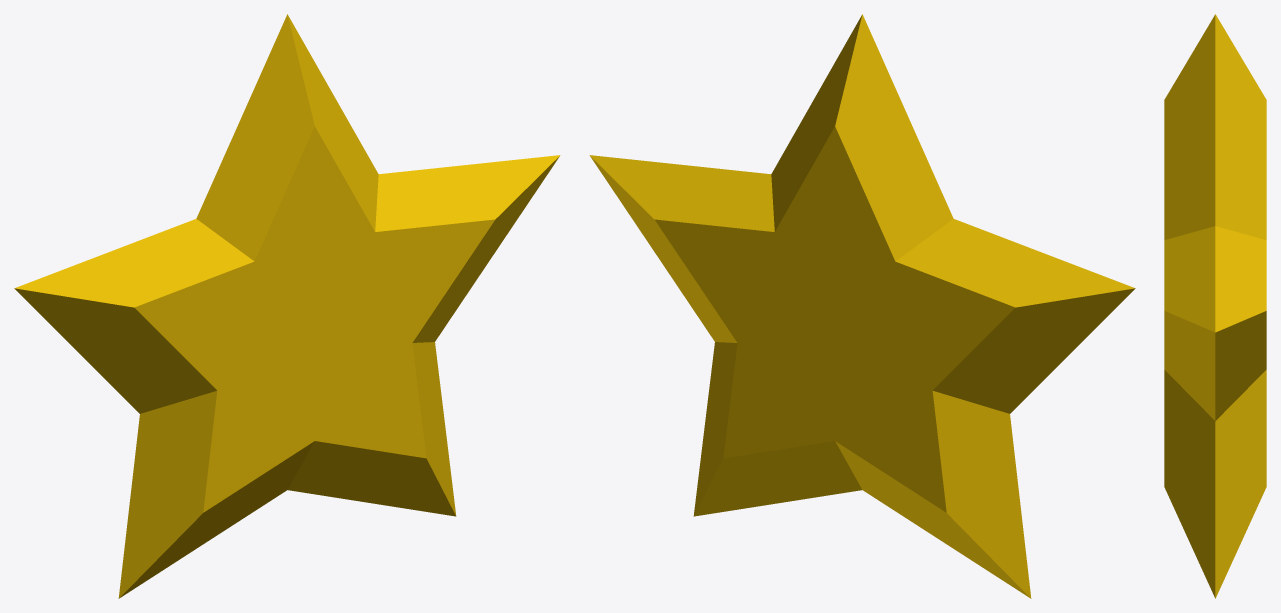
File: star-transformed.glb
3 views of the same model, side by side, from view 1: azimuth 30°, elevation 25°; view 2: azimuth 150°, elevation 25°; view 3: azimuth 270°, elevation 25° (orthographic). The views are drawn at different scales.
Visible parts, largest first — view 1: Circle.001; view 2: Circle.001; view 3: Circle.001.
Part boxes in pixels (x1,y1,x2,y2): Circle.001: (14, 14, 560, 598); Circle.001: (589, 14, 1135, 598); Circle.001: (1164, 14, 1266, 598).
Bounding box in the file's own units: 2.88 × 2.74 × 0.5.
